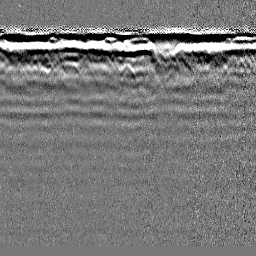cavity: (119, 61, 135, 76)
